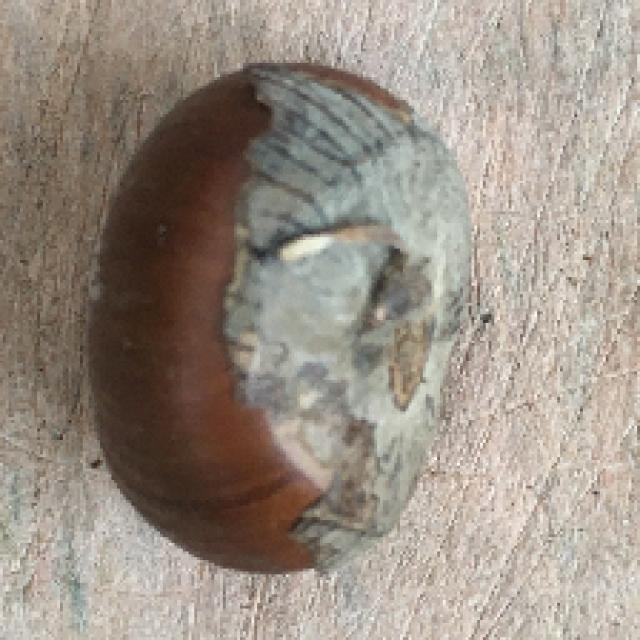damagedHazelnut: (92, 54, 472, 578)
